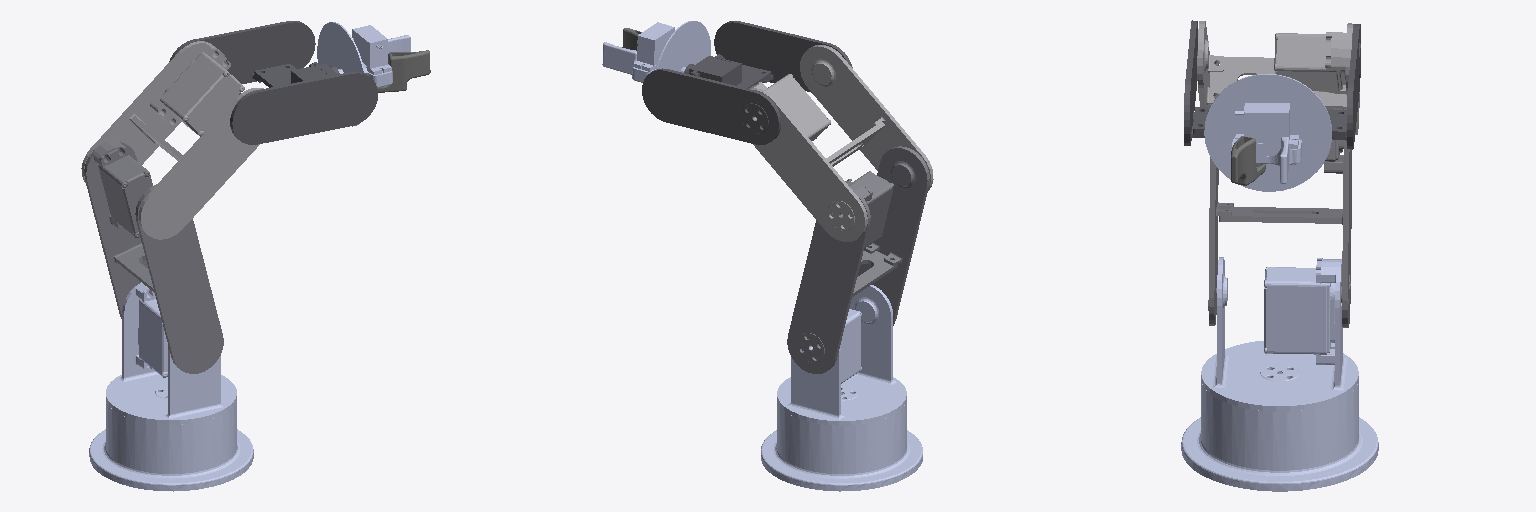
robot.urdf — arm:
<?xml version="1.0" encoding="utf-8"?>
<robot name="arm">
  <link name="world" />
  <joint name="world_to_base_joint" type="fixed">
    <parent link="world" />
    <child link="base_link" />
    <origin xyz="0 0 0" rpy="0 0 0" />
  </joint>
  <link name="base_link">
    <inertial>
      <origin xyz="-7.32666280333299E-19 -5.57720668920226E-19 0.0134744892417906" rpy="0 0 0" />
      <mass value="0.082929" />
      <inertia ixx="8.522155e-05" ixy="6.539980e-36" ixz="-3.254735e-21" iyy="8.522155e-05" iyz="-2.450387e-20" izz="1.450795e-04" />
    </inertial>
    <visual>
      <origin xyz="0 0 0" rpy="0 0 0" />
      <geometry>
        <mesh filename="meshes/base_link.STL" />
      </geometry>
      <material name="">
        <color rgba="0.792156862745098 0.819607843137255 0.933333333333333 1" />
      </material>
    </visual>
    <collision>
      <origin xyz="0 0 0" rpy="0 0 0" />
      <geometry>
        <mesh filename="meshes/base_link.STL" />
      </geometry>
    </collision>
  </link>
  <link name="first_link">
    <inertial>
      <origin xyz="0.000250626951969669 0.00562117204957245 0.0240901342187508" rpy="0 0 0" />
      <mass value="0.088084" />
      <inertia ixx="4.890759e-05" ixy="-6.205813e-07" ixz="-3.536950e-08" iyy="3.501760e-05" iyz="-7.932937e-07" izz="3.925177e-05" />
    </inertial>
    <visual>
      <origin xyz="0 0 0" rpy="0 0 0" />
      <geometry>
        <mesh filename="meshes/first_link.STL" />
      </geometry>
      <material name="">
        <color rgba="0.792156862745098 0.819607843137255 0.933333333333333 1" />
      </material>
    </visual>
    <collision>
      <origin xyz="0 0 0" rpy="0 0 0" />
      <geometry>
        <mesh filename="meshes/first_link.STL" />
      </geometry>
    </collision>
  </link>
  <joint name="base_first_joint" type="revolute">
    <origin xyz="0 0 0.043" rpy="0 0 0" />
    <parent link="base_link" />
    <child link="first_link" />
    <axis xyz="0 0 1" />
    <limit lower="-3.14" upper="3.14" effort="1.10" velocity="6.00" />
  </joint>
  <link name="second_link">
    <inertial>
      <origin xyz="-0.0166982490974192 -0.0670590650564175 -0.0288198997283462" rpy="0 0 0" />
      <mass value="0.091348" />
      <inertia ixx="6.718605e-05" ixy="-1.330803e-05" ixz="4.493332e-07" iyy="1.705569e-05" iyz="1.804494e-06" izz="6.814870e-05" />
    </inertial>
    <visual>
      <origin xyz="0 0 0" rpy="0 0 0" />
      <geometry>
        <mesh filename="meshes/second_link.STL" />
      </geometry>
      <material name="">
        <color rgba="0.55 0.55 0.58 1" />
      </material>
    </visual>
    <collision>
      <origin xyz="0 0 0" rpy="0 0 0" />
      <geometry>
        <mesh filename="meshes/second_link.STL" />
      </geometry>
    </collision>
  </link>
  <joint name="first_second_joint" type="revolute">
    <origin xyz="0.001579 0.035415 0.045" rpy="-1.5708 0 -0.044557" />
    <parent link="first_link" />
    <child link="second_link" />
    <axis xyz="0 0 -1" />
    <limit lower="-3.14" upper="3.14" effort="1.10" velocity="6.00" />
  </joint>
  <link name="third_link">
    <inertial>
      <origin xyz="0.0418828265126475 -0.0358820727893258 -0.0301663331245101" rpy="0 0 0" />
      <mass value="0.089082" />
      <inertia ixx="3.163084e-05" ixy="1.811987e-05" ixz="-1.572294e-06" iyy="3.725725e-05" iyz="1.347024e-06" izz="4.725753e-05" />
    </inertial>
    <visual>
      <origin xyz="0 0 0" rpy="0 0 0" />
      <geometry>
        <mesh filename="meshes/third_link.STL" />
      </geometry>
      <material name="">
        <color rgba="0.68 0.68 0.70 1" />
      </material>
    </visual>
    <collision>
      <origin xyz="0 0 0" rpy="0 0 0" />
      <geometry>
        <mesh filename="meshes/third_link.STL" />
      </geometry>
    </collision>
  </link>
  <joint name="second_third_joint" type="revolute">
    <origin xyz="-0.024163 -0.097037 0.00345" rpy="0 0 0" />
    <parent link="second_link" />
    <child link="third_link" />
    <axis xyz="0 0 1" />
    <limit lower="-3.14" upper="3.14" effort="1.10" velocity="6.00" />
  </joint>
  <link name="fourth_link">
    <inertial>
      <origin xyz="0.0427923091518454 0.00387296406671064 -0.0443677221566922" rpy="0 0 0" />
      <mass value="0.085362" />
      <inertia ixx="1.362574e-05" ixy="-1.003445e-06" ixz="-7.733763e-08" iyy="4.516552e-05" iyz="-2.066603e-08" izz="4.195505e-05" />
    </inertial>
    <visual>
      <origin xyz="0 0 0" rpy="0 0 0" />
      <geometry>
        <mesh filename="meshes/fourth_link.STL" />
      </geometry>
      <material name="">
        <color rgba="0.42 0.42 0.45 1" />
      </material>
    </visual>
    <collision>
      <origin xyz="0 0 0" rpy="0 0 0" />
      <geometry>
        <mesh filename="meshes/fourth_link.STL" />
      </geometry>
    </collision>
  </link>
  <joint name="third_fourth_joint" type="revolute">
    <origin xyz="0.060753 -0.052049 0.00345" rpy="0 0 0" />
    <parent link="third_link" />
    <child link="fourth_link" />
    <axis xyz="0 0 -1" />
    <limit lower="-3.14" upper="3.14" effort="1.10" velocity="6.00" />
  </joint>
  <link name="fifth_link">
    <inertial>
      <origin xyz="-0.000898857054947253 -0.00407836376699913 0.0149644845545724" rpy="0 0 0" />
      <mass value="0.069727" />
      <inertia ixx="9.662836e-06" ixy="-2.497635e-07" ixz="9.314259e-07" iyy="1.111844e-05" iyz="2.312997e-07" izz="1.334266e-05" />
    </inertial>
    <visual>
      <origin xyz="0 0 0" rpy="0 0 0" />
      <geometry>
        <mesh filename="meshes/fifth_link.STL" />
      </geometry>
      <material name="">
        <color rgba="0.792156862745098 0.819607843137255 0.933333333333333 1" />
      </material>
    </visual>
    <collision>
      <origin xyz="0 0 0" rpy="0 0 0" />
      <geometry>
        <mesh filename="meshes/fifth_link.STL" />
      </geometry>
    </collision>
  </link>
  <joint name="fourth_fifth_joint" type="revolute">
    <origin xyz="0.080759 0.0052483 -0.04306" rpy="0.02349 1.5708 0" />
    <parent link="fourth_link" />
    <child link="fifth_link" />
    <axis xyz="0 0 -1" />
    <limit lower="-3.14" upper="3.14" effort="1.10" velocity="6.00" />
  </joint>
  <link name="sixth_link">
    <inertial>
      <origin xyz="0.0144696220155915 0.00615336562179949 -0.0092280071066034" rpy="0 0 0" />
      <mass value="0.005650" />
      <inertia ixx="3.424445e-07" ixy="-1.428812e-07" ixz="1.682908e-07" iyy="6.631870e-07" iyz="6.566166e-08" izz="4.969178e-07" />
    </inertial>
    <visual>
      <origin xyz="0 0 0" rpy="0 0 0" />
      <geometry>
        <mesh filename="meshes/sixth_link.STL" />
      </geometry>
      <material name="">
        <color rgba="0.501960784313725 0.501960784313725 0.501960784313725 1" />
      </material>
    </visual>
    <collision>
      <origin xyz="0 0 0" rpy="0 0 0" />
      <geometry>
        <mesh filename="meshes/sixth_link.STL" />
      </geometry>
    </collision>
  </link>
  <joint name="fifth_sixth_joint" type="revolute">
    <origin xyz="0.0055 0.01205 0.019" rpy="1.5708 -1.5262 3.1416" />
    <parent link="fifth_link" />
    <child link="sixth_link" />
    <axis xyz="0 0 -1" />
    <limit lower="-3.14" upper="3.14" effort="1.10" velocity="6.00" />
  </joint>
</robot>

--- What the picture shows (computed from the rendered views, not written in the file) ---
Views: 3 orthographic renders of the robot side by side, from view 1: azimuth 30°, elevation 25°; view 2: azimuth 150°, elevation 25°; view 3: azimuth 270°, elevation 25°.
Robot: arm — 8 links, 7 joints (6 revolute, 1 fixed); root link world; default pose: all joints at 0.
Visible links, largest first — view 1: third_link, second_link, fourth_link, base_link, first_link, fifth_link, sixth_link; view 2: second_link, third_link, fourth_link, first_link, base_link, fifth_link; view 3: first_link, base_link, fifth_link, third_link, second_link, fourth_link, sixth_link.
Boxes of the visible links, left/top/right/bottom form: third_link: left=81, top=41, right=263, bottom=239; second_link: left=84, top=140, right=223, bottom=373; fourth_link: left=169, top=21, right=377, bottom=144; base_link: left=89, top=401, right=253, bottom=491; first_link: left=106, top=282, right=236, bottom=424; fifth_link: left=317, top=22, right=410, bottom=126; sixth_link: left=377, top=50, right=430, bottom=92; second_link: left=787, top=146, right=929, bottom=373; third_link: left=749, top=45, right=933, bottom=241; fourth_link: left=642, top=21, right=852, bottom=144; first_link: left=777, top=285, right=906, bottom=425; base_link: left=761, top=401, right=922, bottom=491; fifth_link: left=602, top=21, right=710, bottom=82; first_link: left=1201, top=257, right=1358, bottom=411; base_link: left=1181, top=380, right=1378, bottom=491; fifth_link: left=1204, top=74, right=1331, bottom=191; third_link: left=1197, top=21, right=1359, bottom=134; second_link: left=1208, top=63, right=1351, bottom=327; fourth_link: left=1184, top=20, right=1360, bottom=149; sixth_link: left=1231, top=136, right=1265, bottom=185.
Size in the robot's own frame: 0.2187 by 0.1 by 0.2643 metres.
Meshes: 7 distinct files referenced, 7 mesh visuals loaded (7 binary STL).
